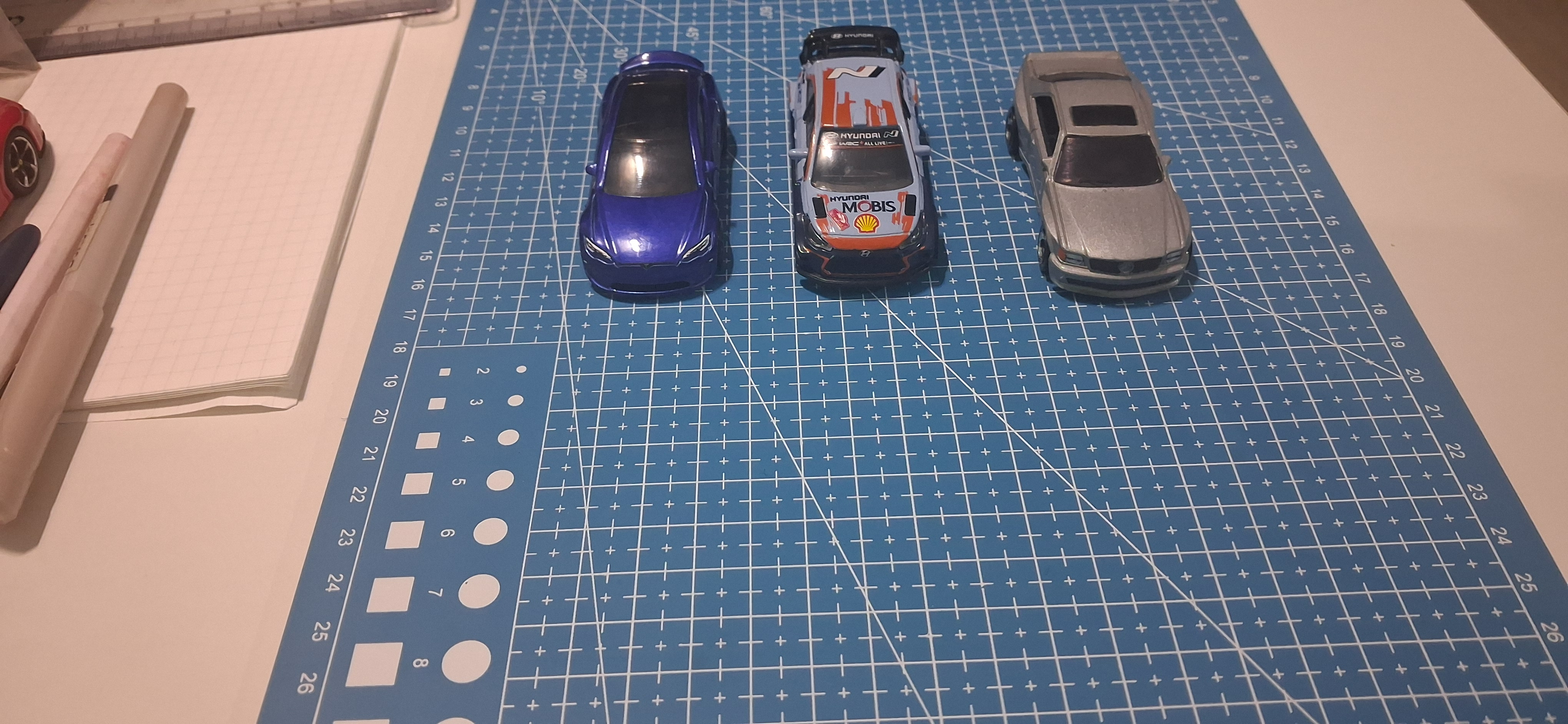Hyundai_I20_WRC: (781, 16, 952, 325)
Mercedes_Benz_560_SEC_AMG: (994, 18, 1224, 312)
Tesla_Model_S_Plaid: (571, 27, 746, 326)
